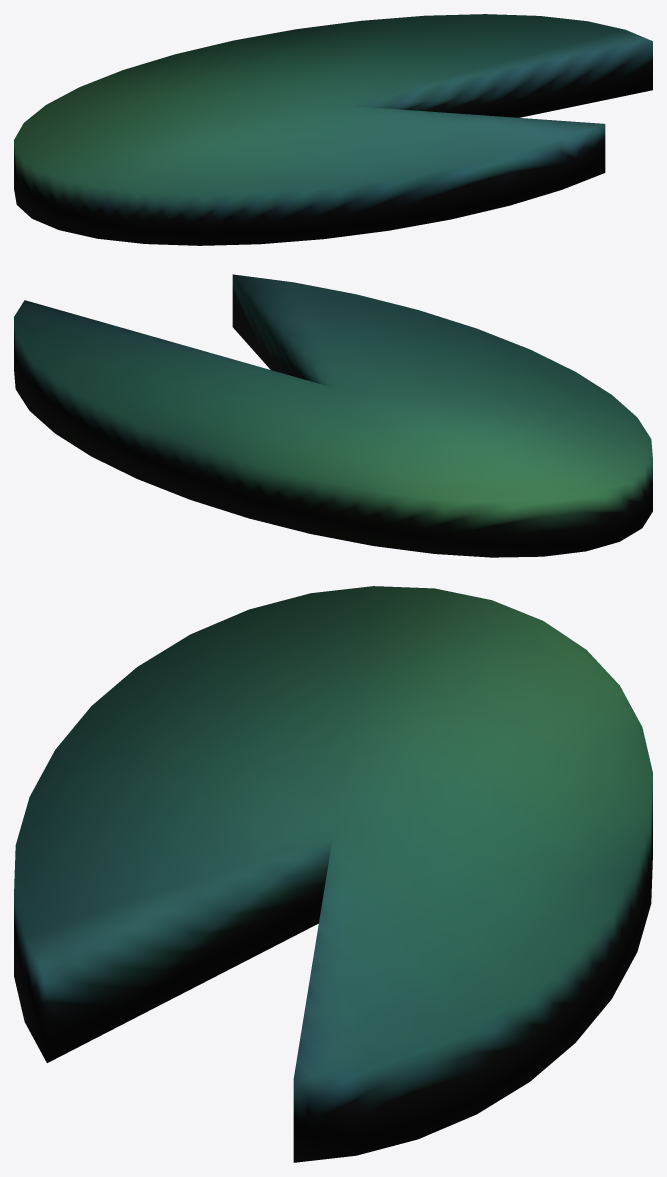
Rendered from Swamp_Lilypads.glb.
3 views of the same model, one above another, from view 1: azimuth 30°, elevation 25°; view 2: azimuth 150°, elevation 25°; view 3: azimuth 270°, elevation 25° (orthographic). The views are drawn at different scales.
Parts seen in each view (by area): view 1: Cube.011; view 2: Cube.011; view 3: Cube.011.
Part boxes in pixels (x1,y1,x2,y2): Cube.011: (14, 14, 652, 245); Cube.011: (14, 274, 652, 557); Cube.011: (14, 586, 652, 1162).
Size of the model in its own units: 71.14 by 5.57 by 38.9.
1 material, 1 textured.
